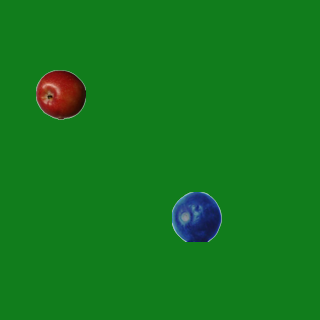Apple Braeburn: (35, 69, 85, 119)
Huckleberry: (171, 191, 221, 241)
